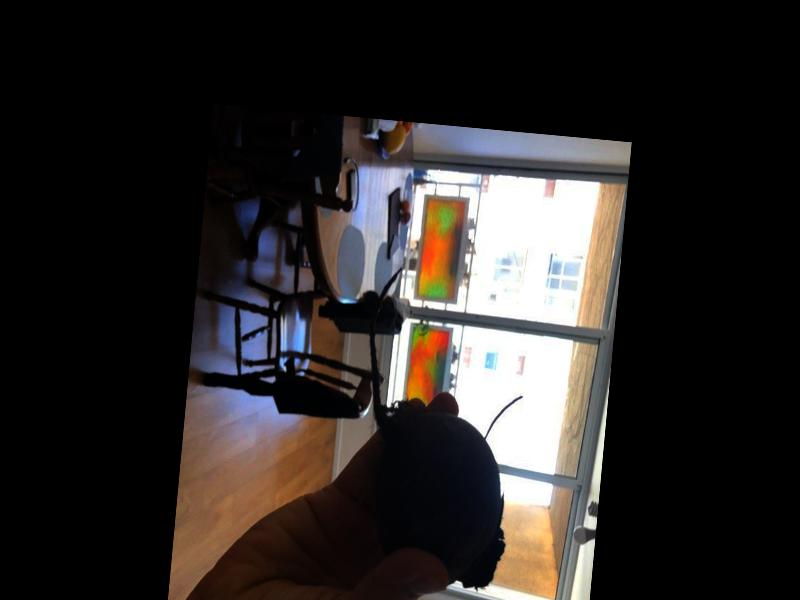Beet: (348, 265, 531, 590)
